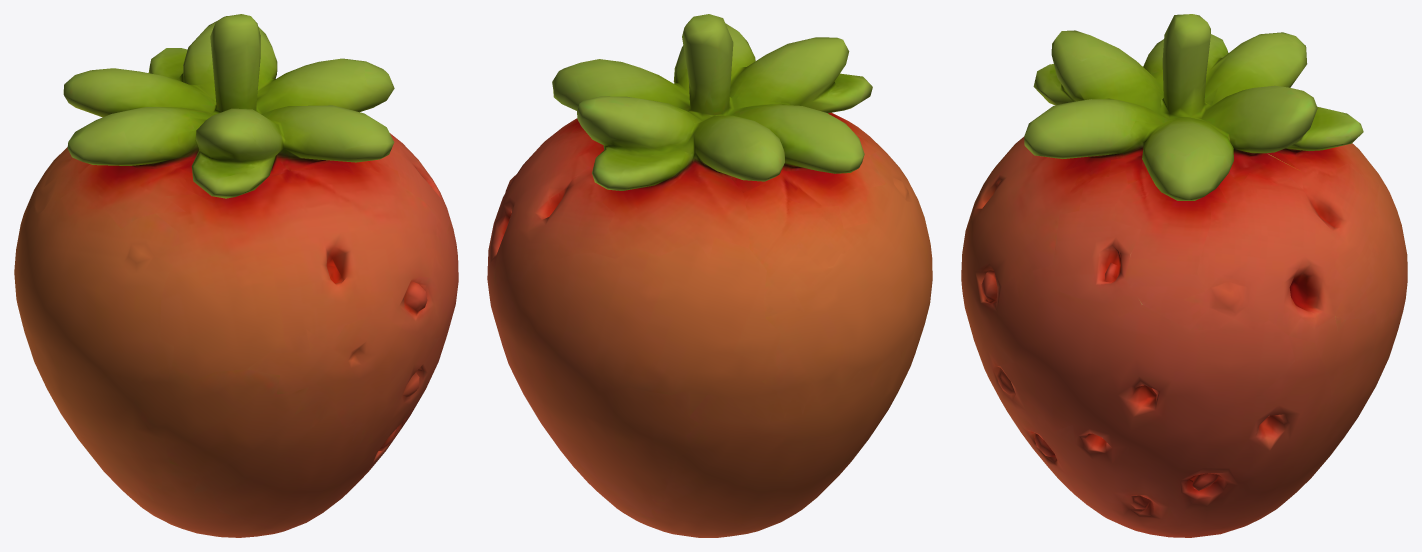
The model's file is strawberry.glb.
3 renders of one model, left to right at view 1: azimuth 30°, elevation 25°; view 2: azimuth 150°, elevation 25°; view 3: azimuth 270°, elevation 25°, orthographic.
Parts seen in each view (by area): view 1: tripo_node_5bb0ba17-e313-4ec3-9f7d-429604050167; view 2: tripo_node_5bb0ba17-e313-4ec3-9f7d-429604050167; view 3: tripo_node_5bb0ba17-e313-4ec3-9f7d-429604050167.
Boxes of the visible parts, x1=… form: tripo_node_5bb0ba17-e313-4ec3-9f7d-429604050167: x1=14, y1=14, x2=458, y2=537; tripo_node_5bb0ba17-e313-4ec3-9f7d-429604050167: x1=487, y1=14, x2=932, y2=537; tripo_node_5bb0ba17-e313-4ec3-9f7d-429604050167: x1=961, y1=14, x2=1407, y2=537.
Bounding box in the file's own units: 0.8026 × 0.9999 × 0.8025.
1 material, 1 textured.
